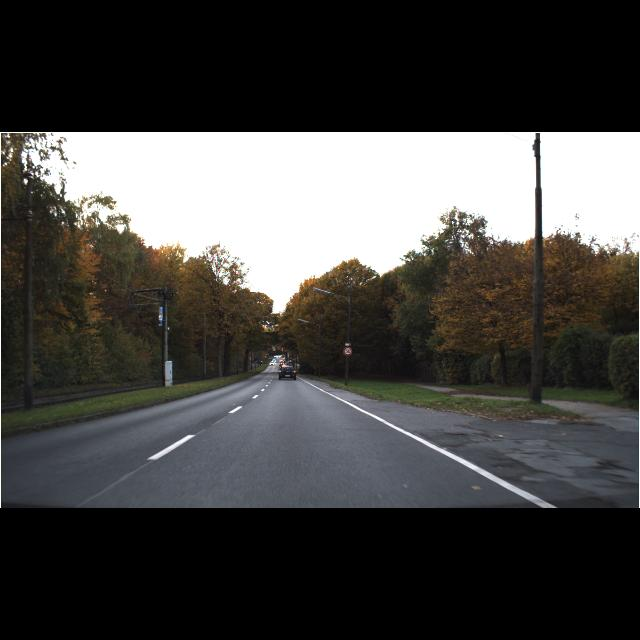prohibitory: (342, 346, 352, 356)
